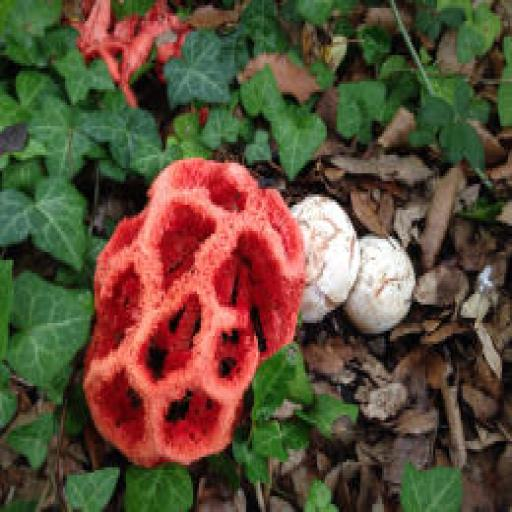Red Cage Fungus: (79, 158, 311, 467)
